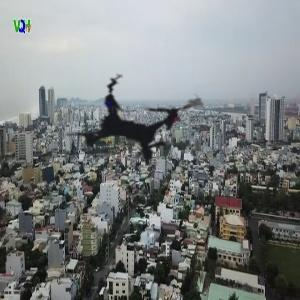drone: (31, 21, 238, 228)
